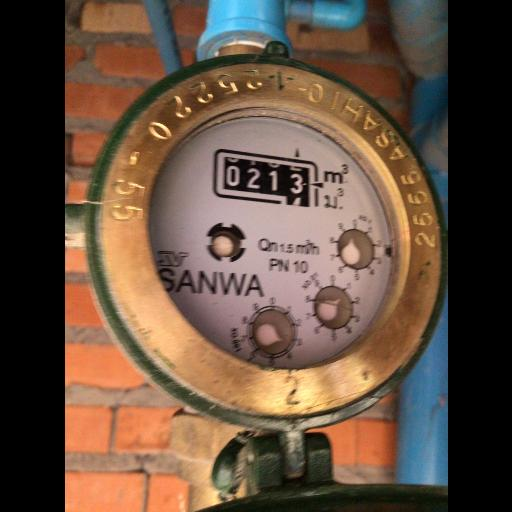0: (223, 156, 244, 191)
1: (263, 161, 286, 198)
2: (243, 159, 264, 194)
3: (285, 165, 309, 208)
border_water_meter_number: (208, 147, 326, 209)
